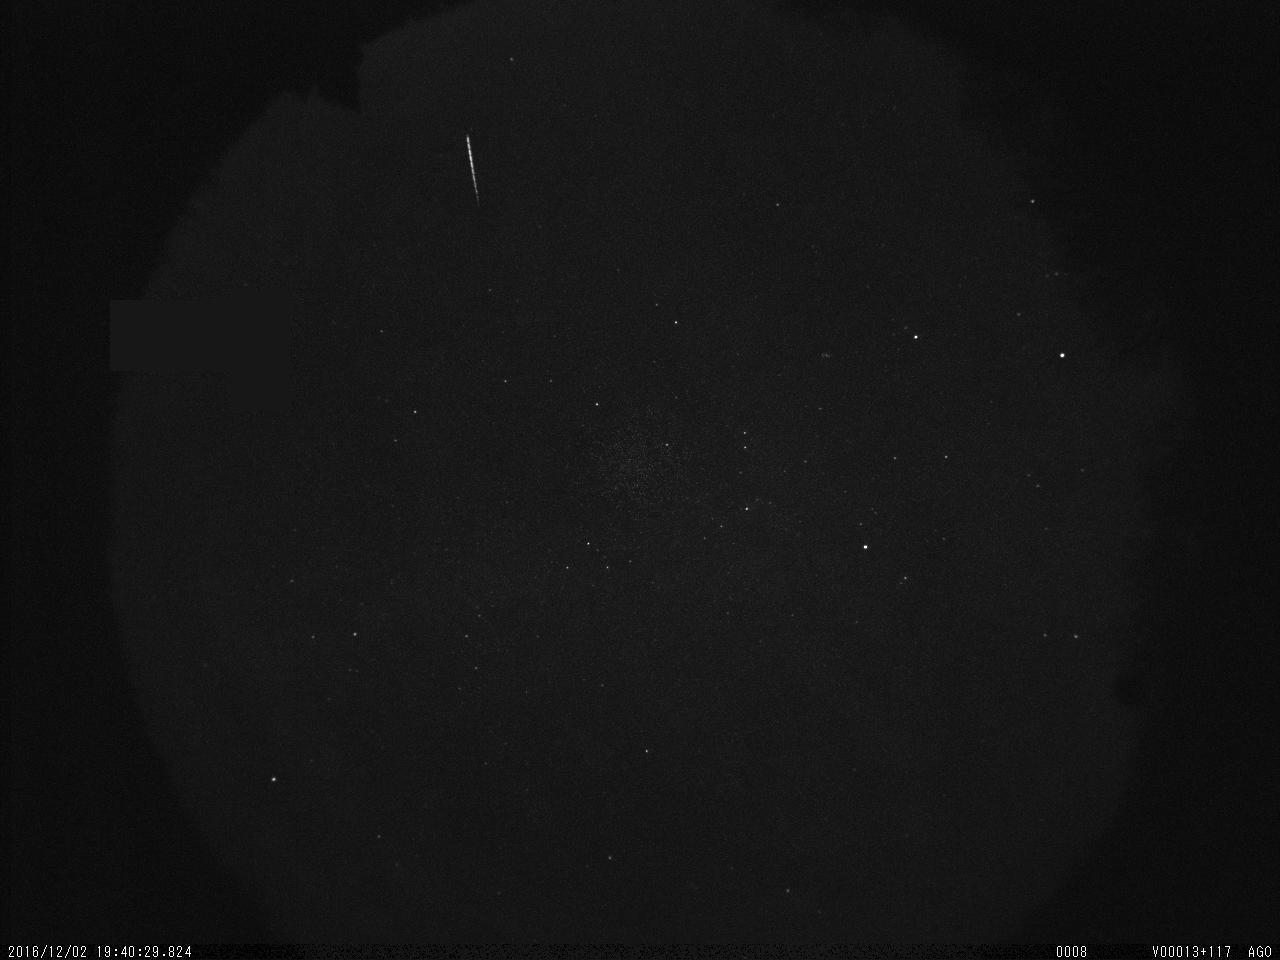meteor: (458, 121, 490, 221)
